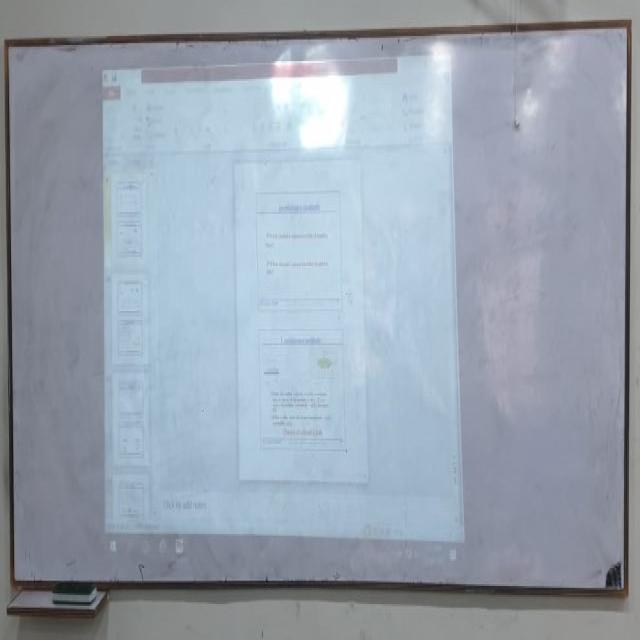Slide: (99, 50, 463, 571)
White-board: (4, 27, 630, 592)
